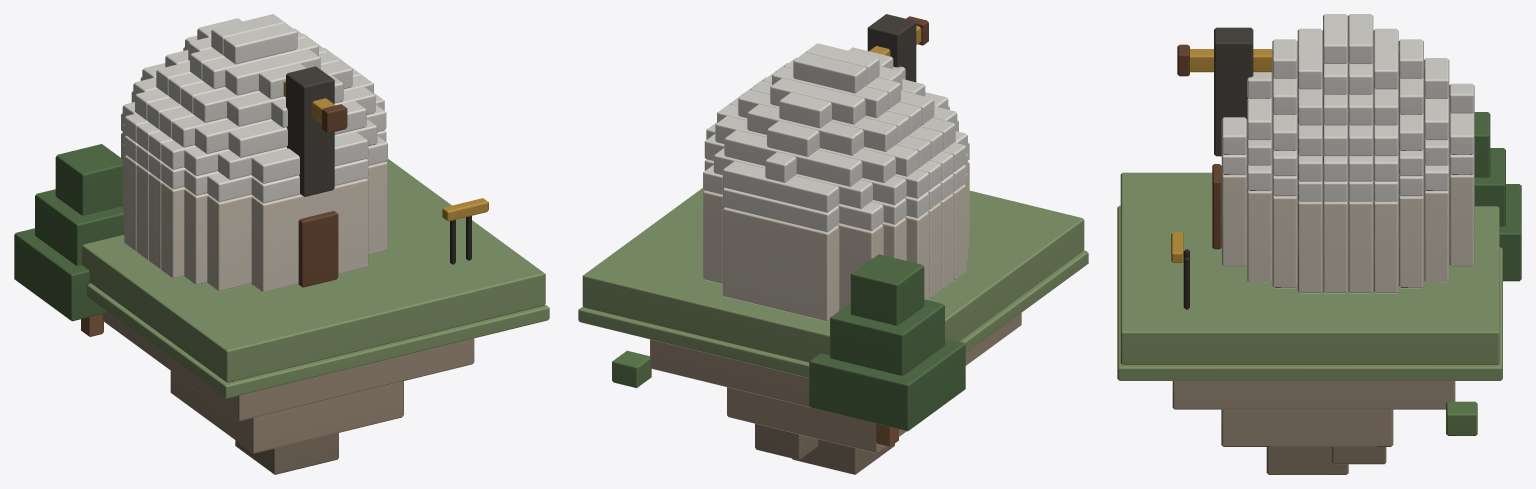
The model's file is region_20.glb.
3 renders of one model, left to right at view 1: azimuth 30°, elevation 25°; view 2: azimuth 150°, elevation 25°; view 3: azimuth 270°, elevation 25°, orthographic. The views are drawn at different scales.
Parts seen in each view (by area): view 1: region_20_static, region_20_scope; view 2: region_20_static; view 3: region_20_static, region_20_scope.
Boxes of the visible parts, x1=… form: region_20_static: x1=14, y1=14, x2=549, y2=474; region_20_scope: x1=283, y1=80, x2=347, y2=133; region_20_static: x1=578, y1=14, x2=1088, y2=474; region_20_static: x1=1117, y1=14, x2=1521, y2=474; region_20_scope: x1=1177, y1=44, x2=1272, y2=76.
Bounding box in the file's own units: 6.39 × 7.4 × 6.39.
